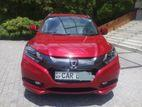car: (21, 9, 122, 102)
